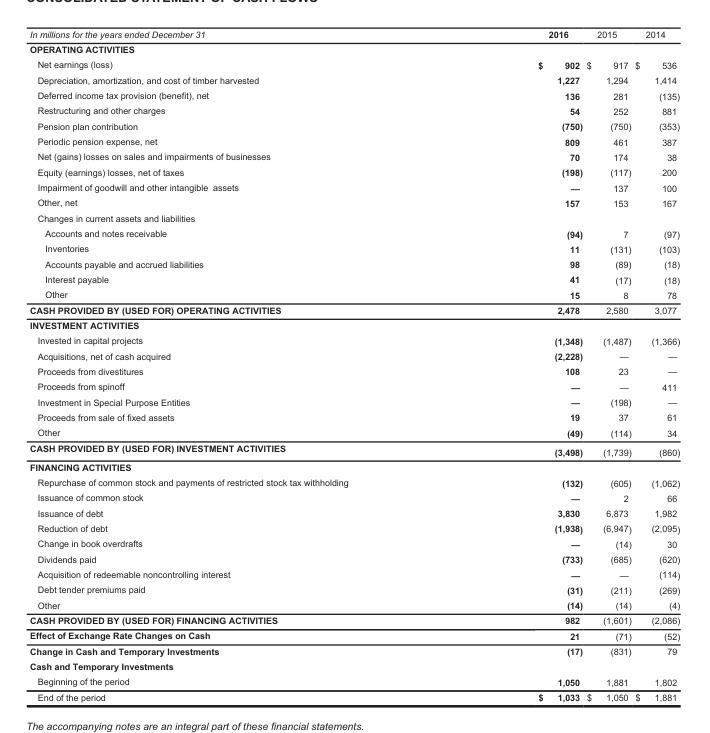table: (28, 29, 679, 701)
table column: (28, 29, 442, 701), (442, 29, 583, 701), (583, 29, 632, 701), (632, 29, 679, 701)
table column header: (28, 29, 679, 41)
table projected row header: (28, 41, 679, 56), (28, 210, 679, 225), (28, 317, 679, 332), (28, 459, 679, 474), (28, 658, 679, 673)
table row: (28, 440, 679, 459), (28, 56, 679, 72), (28, 102, 679, 118), (28, 148, 679, 164), (28, 194, 679, 210), (28, 240, 679, 256), (28, 286, 679, 302), (28, 332, 679, 348), (28, 378, 679, 394), (28, 424, 679, 440), (28, 489, 679, 505), (28, 535, 679, 551), (28, 581, 679, 597), (28, 627, 679, 643), (28, 673, 679, 689), (28, 41, 679, 56), (28, 72, 679, 87), (28, 87, 679, 102), (28, 118, 679, 133), (28, 133, 679, 148), (28, 164, 679, 179), (28, 179, 679, 194), (28, 210, 679, 225), (28, 225, 679, 240), (28, 256, 679, 271), (28, 271, 679, 286), (28, 302, 679, 317), (28, 317, 679, 332), (28, 348, 679, 363), (28, 363, 679, 378), (28, 394, 679, 409), (28, 409, 679, 424), (28, 459, 679, 474), (28, 474, 679, 489), (28, 505, 679, 520), (28, 520, 679, 535), (28, 551, 679, 566), (28, 566, 679, 581), (28, 597, 679, 612), (28, 612, 679, 627), (28, 643, 679, 658), (28, 658, 679, 673), (28, 29, 679, 41), (28, 689, 679, 701)
